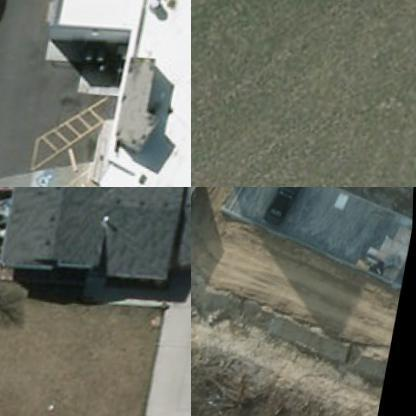car: (260, 187, 311, 242)
